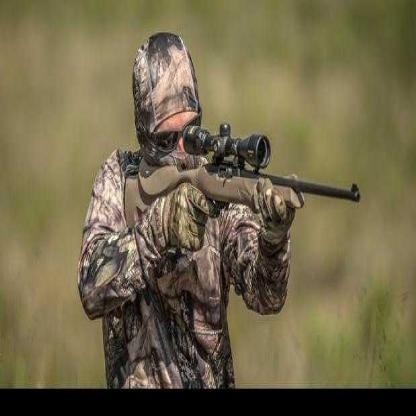rifle: (117, 131, 370, 256)
